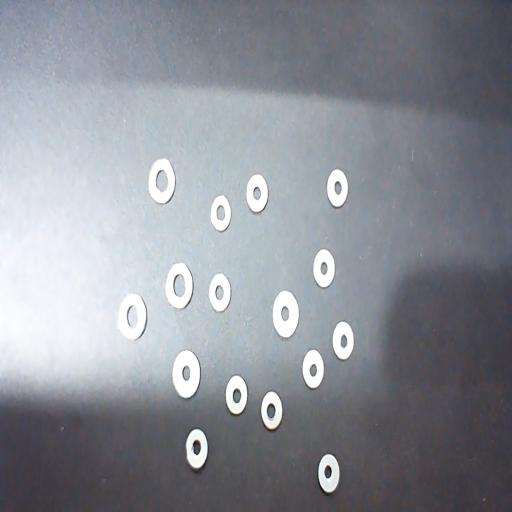washer: (172, 350, 201, 398), (118, 293, 147, 340), (148, 157, 176, 205), (166, 262, 194, 309), (272, 290, 299, 338), (185, 429, 208, 470), (327, 168, 349, 208), (313, 248, 335, 288), (246, 174, 268, 213), (209, 273, 231, 312), (261, 392, 283, 431), (318, 454, 339, 494), (332, 322, 354, 360), (303, 350, 324, 389), (210, 195, 232, 232), (226, 376, 247, 414)
